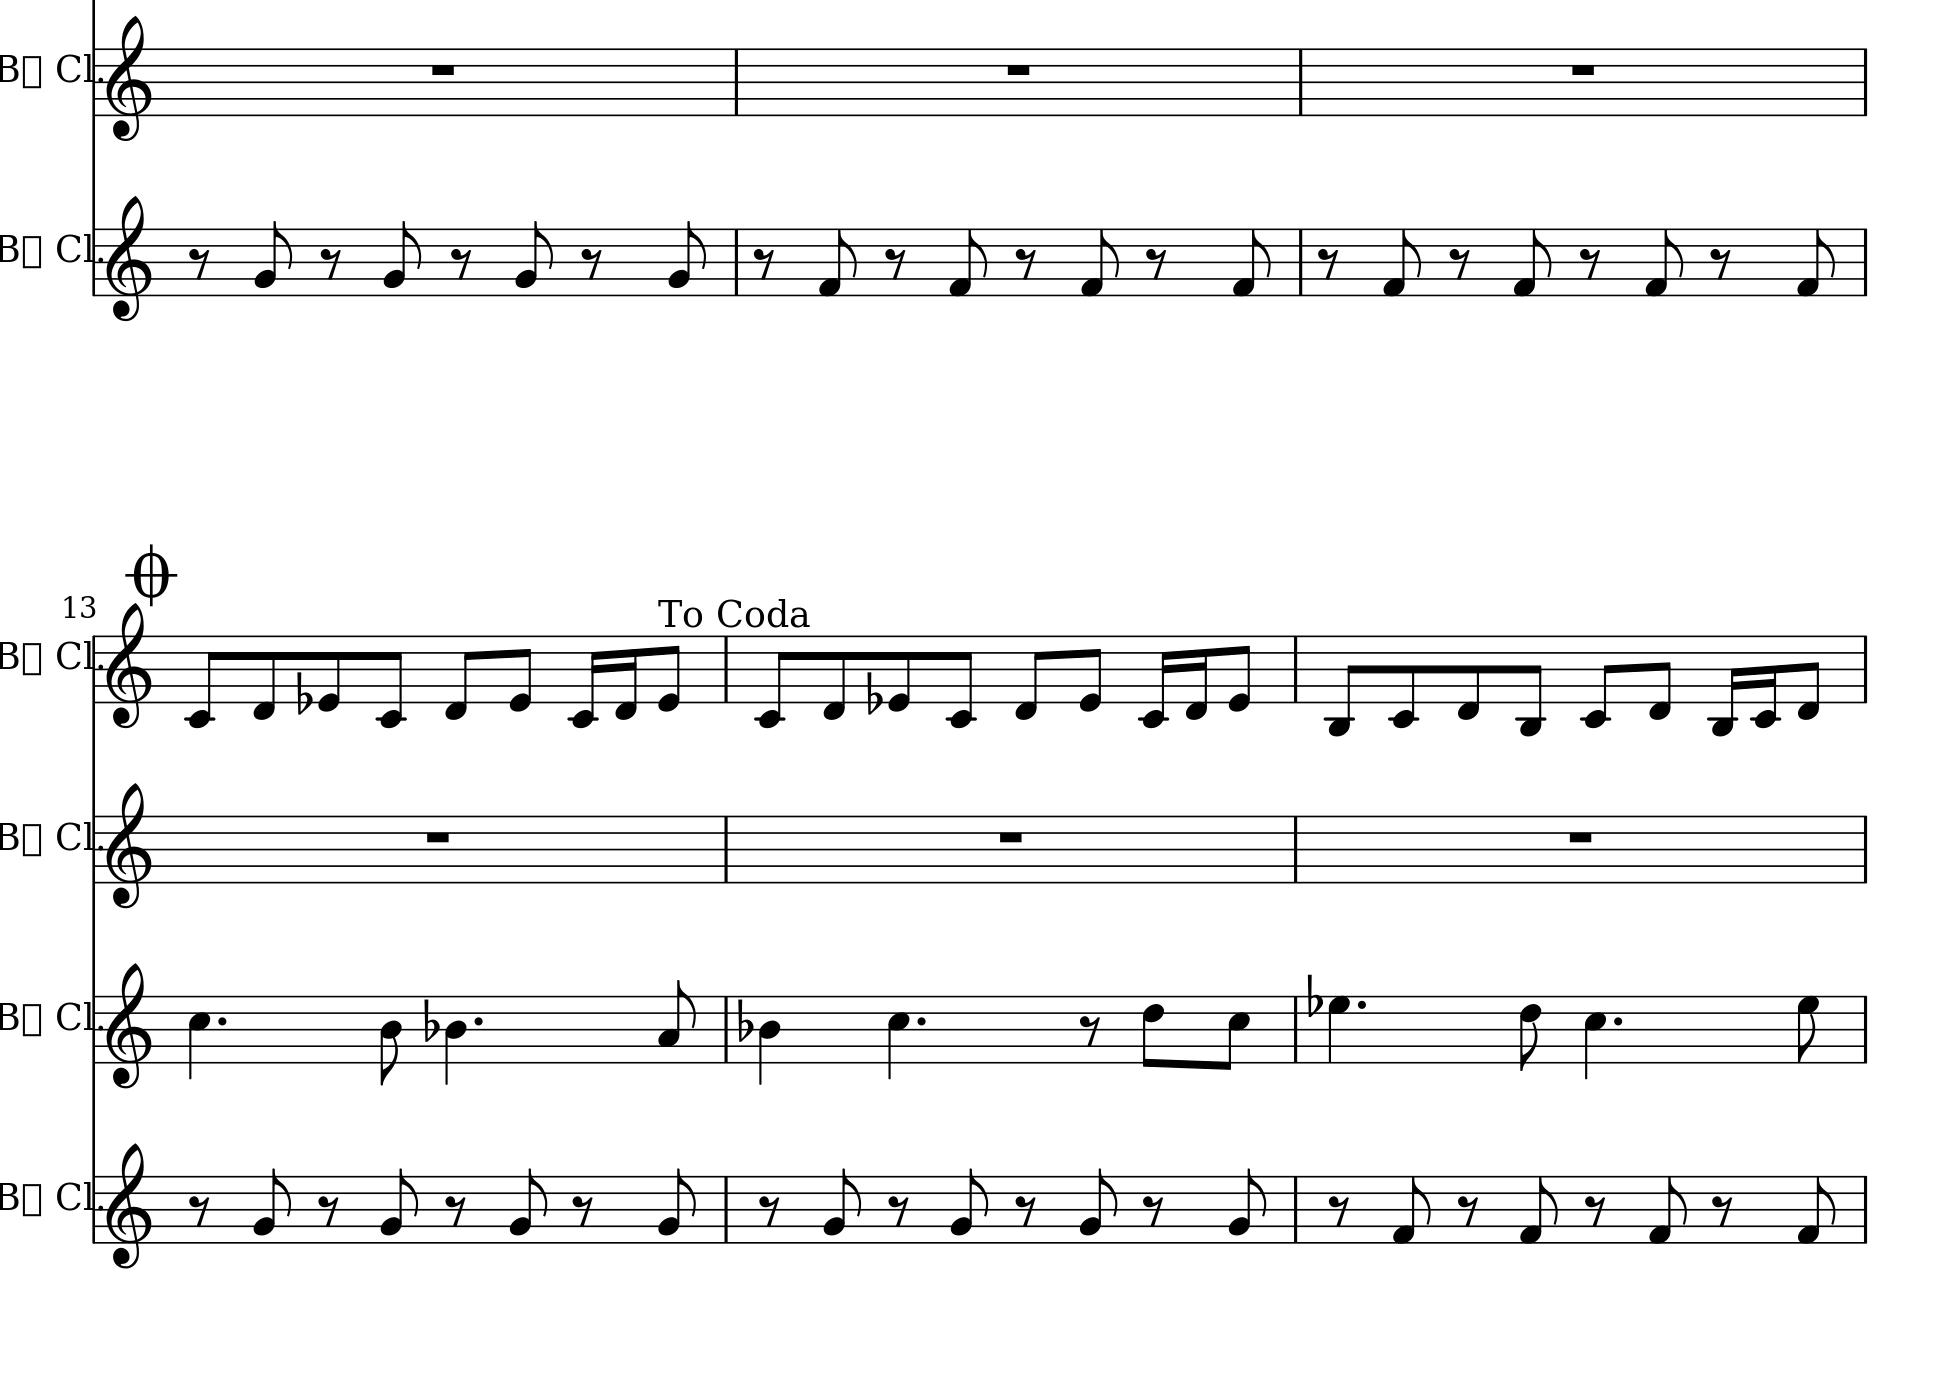1: (61, 592, 75, 619)
16_-1: (613, 633, 639, 721), (1185, 633, 1209, 721)
16_-2: (1138, 633, 1174, 730), (568, 633, 603, 730), (1750, 631, 1779, 730)
16_-3: (1708, 631, 1744, 738)
3: (79, 592, 96, 619)
4_4: (442, 991, 469, 1086), (757, 993, 781, 1084)
4_5: (186, 991, 211, 1081), (885, 993, 910, 1081), (1582, 993, 1608, 1081)
4_7: (1327, 994, 1353, 1066)
8_-1: (442, 633, 475, 721), (1012, 633, 1045, 721), (1455, 631, 1482, 721), (1647, 631, 1674, 721), (250, 633, 277, 721), (820, 633, 847, 721), (1797, 633, 1824, 721)
8_-2: (186, 633, 223, 730), (1581, 633, 1618, 730), (754, 633, 790, 730), (1389, 633, 1419, 730), (376, 633, 406, 729), (946, 633, 976, 729)
8_-3: (1324, 633, 1359, 738), (1515, 631, 1546, 736)
8_0: (1077, 631, 1104, 712), (1227, 631, 1254, 712), (507, 633, 534, 712), (655, 634, 682, 712), (316, 633, 342, 712), (886, 633, 912, 712)
8_1: (1516, 1174, 1563, 1245), (816, 226, 859, 298), (946, 226, 990, 298), (1381, 226, 1425, 298), (1390, 1174, 1434, 1245), (1080, 226, 1122, 298), (1512, 226, 1554, 298), (1644, 226, 1686, 298), (1795, 1174, 1837, 1245), (1231, 226, 1272, 298), (1795, 226, 1836, 298), (1647, 1174, 1689, 1243)
8_2: (379, 1165, 421, 1245), (655, 1165, 697, 1245), (250, 1165, 292, 1243), (822, 1165, 862, 1245), (508, 1165, 549, 1243), (949, 1165, 990, 1243), (1078, 1165, 1119, 1243), (1227, 1167, 1267, 1245), (382, 219, 421, 295), (514, 219, 553, 295), (667, 219, 706, 295), (253, 220, 292, 295)
8_3: (657, 978, 696, 1063)
8_4: (378, 993, 405, 1084)
8_5: (1216, 993, 1252, 1072)
8_6: (1140, 993, 1165, 1069), (1518, 991, 1542, 1069)
8_7: (1795, 993, 1824, 1065)
Cl: (55, 817, 91, 855), (55, 997, 93, 1033), (55, 49, 91, 85), (55, 637, 91, 673), (57, 1177, 91, 1212), (55, 229, 91, 262)
Coda: (124, 541, 177, 603)
Flat: (864, 669, 883, 715), (421, 994, 439, 1044), (1305, 970, 1323, 1018), (736, 997, 754, 1044), (294, 670, 312, 715)
Gclef: (103, 1141, 154, 1272), (103, 961, 154, 1090), (103, 781, 153, 912), (103, 13, 153, 142), (103, 193, 153, 322), (103, 601, 153, 730)
Rests1: (421, 826, 454, 846), (1003, 60, 1035, 78), (1567, 60, 1599, 78), (996, 828, 1026, 846), (1566, 828, 1596, 846), (427, 60, 457, 76)
Rests8: (186, 244, 211, 280), (756, 1192, 781, 1227), (1326, 1192, 1351, 1227), (1710, 1192, 1735, 1227), (319, 244, 343, 280), (448, 244, 472, 280), (579, 244, 603, 280), (751, 244, 775, 280), (883, 244, 907, 280), (1014, 244, 1038, 280), (1144, 244, 1168, 280), (1317, 244, 1341, 280), (1449, 244, 1473, 280), (1578, 244, 1602, 280), (1710, 244, 1734, 280), (442, 1192, 468, 1225), (886, 1192, 910, 1227), (1141, 1192, 1165, 1227), (1456, 1192, 1480, 1227), (1584, 1192, 1608, 1227), (187, 1192, 211, 1225), (316, 1192, 340, 1225), (570, 1192, 594, 1225), (1014, 1192, 1038, 1225), (1080, 1012, 1102, 1047)
Single_barline: (715, 996, 735, 1062), (1287, 633, 1305, 703), (1293, 46, 1311, 117), (1855, 226, 1873, 295), (717, 1174, 735, 1242), (1294, 228, 1312, 295), (1857, 994, 1875, 1062), (1857, 1176, 1875, 1242), (1285, 1174, 1302, 1243), (1287, 996, 1305, 1059), (1858, 814, 1875, 882), (727, 228, 744, 294), (1857, 636, 1873, 702), (1857, 49, 1873, 112), (87, 634, 102, 703), (88, 814, 103, 883), (88, 994, 103, 1063), (88, 1174, 103, 1243), (88, 48, 103, 115), (718, 636, 733, 702), (718, 816, 733, 882), (729, 49, 744, 112), (88, 228, 102, 295), (1290, 814, 1302, 880)
ToCoda: (652, 592, 813, 634)
dot: (1609, 1012, 1629, 1027), (469, 1012, 486, 1027), (214, 1012, 229, 1027), (913, 1012, 928, 1027), (1354, 997, 1369, 1009)
